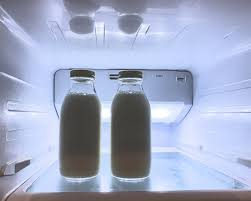milk: (56, 63, 102, 181), (106, 63, 154, 174)
